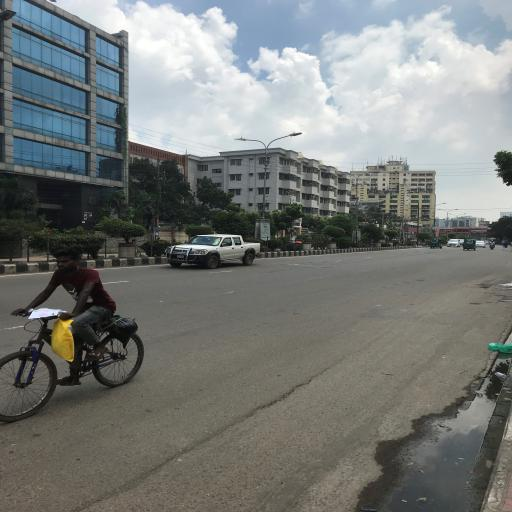bicycle: (1, 298, 145, 415)
bus: (489, 238, 498, 246)
car: (448, 239, 462, 249), (477, 241, 488, 249)
motorbike: (490, 241, 497, 251)
pickup: (164, 234, 262, 270)
three wheelers (CNG): (464, 240, 477, 252), (431, 239, 444, 250)
